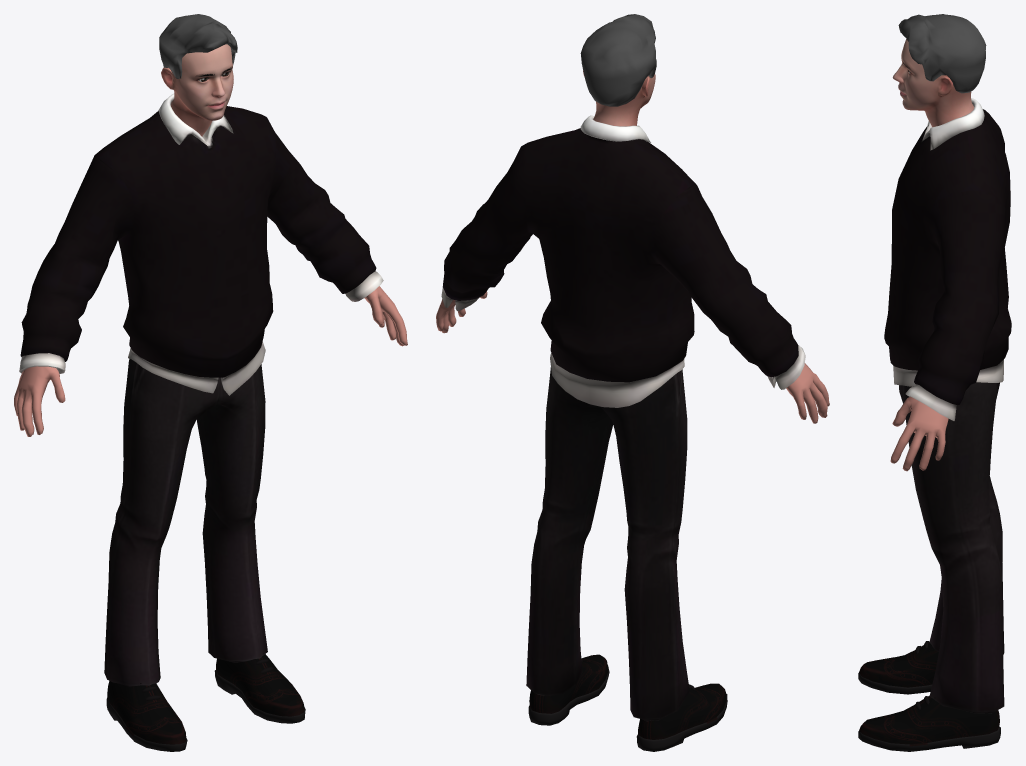
Rendered from robi.obj.
3 renders of one model, left to right at view 1: azimuth 30°, elevation 25°; view 2: azimuth 150°, elevation 25°; view 3: azimuth 270°, elevation 25°, orthographic.
Visible parts, largest first — view 1: obj1; view 2: obj1; view 3: obj1.
Boxes of the visible parts, bbox=[...] form: obj1: bbox=[14, 14, 407, 751]; obj1: bbox=[436, 14, 829, 751]; obj1: bbox=[858, 14, 1011, 751].
Bounding box in the file's own units: 1.06 × 1.85 × 0.3697.
Materials: 1 (1 with a texture image).
